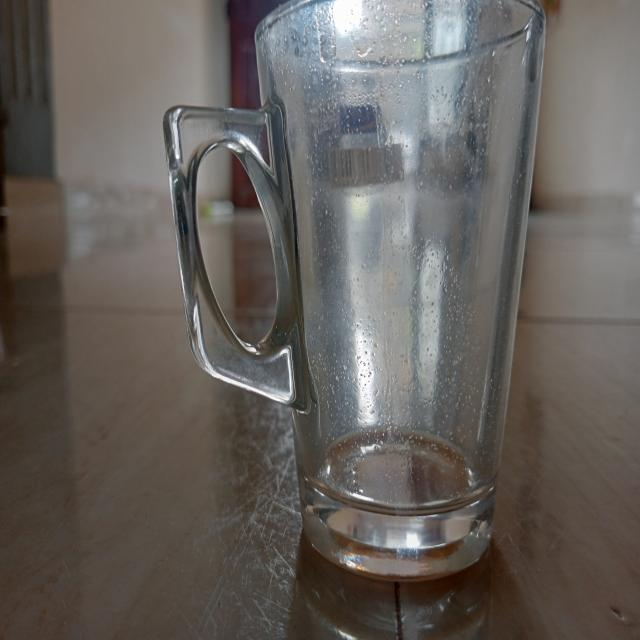glass-VX4N: (161, 0, 545, 583)
